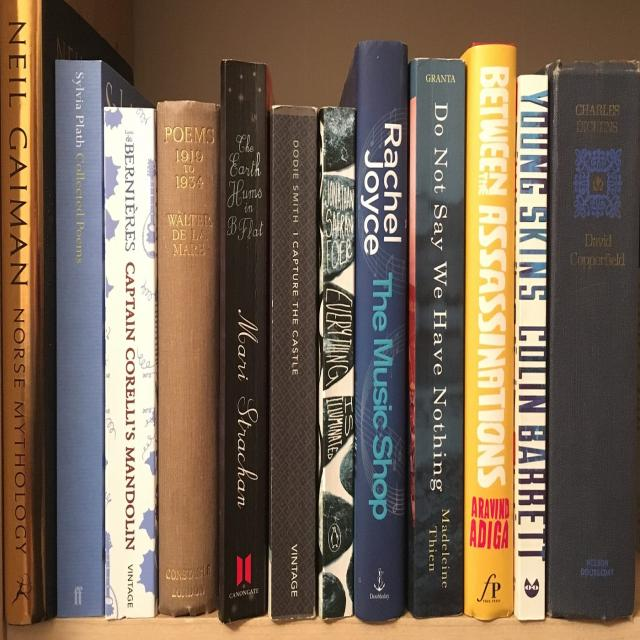book: (548, 63, 640, 618), (156, 101, 217, 617), (412, 60, 464, 616), (0, 1, 46, 624), (465, 43, 514, 622), (358, 44, 404, 623), (106, 106, 155, 616), (57, 62, 102, 615), (221, 56, 264, 621), (272, 106, 316, 620), (319, 104, 352, 622), (516, 72, 545, 620)
